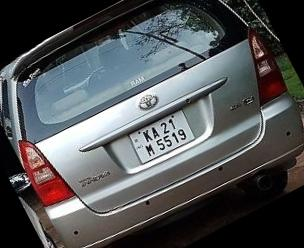plate: (118, 91, 208, 178)
